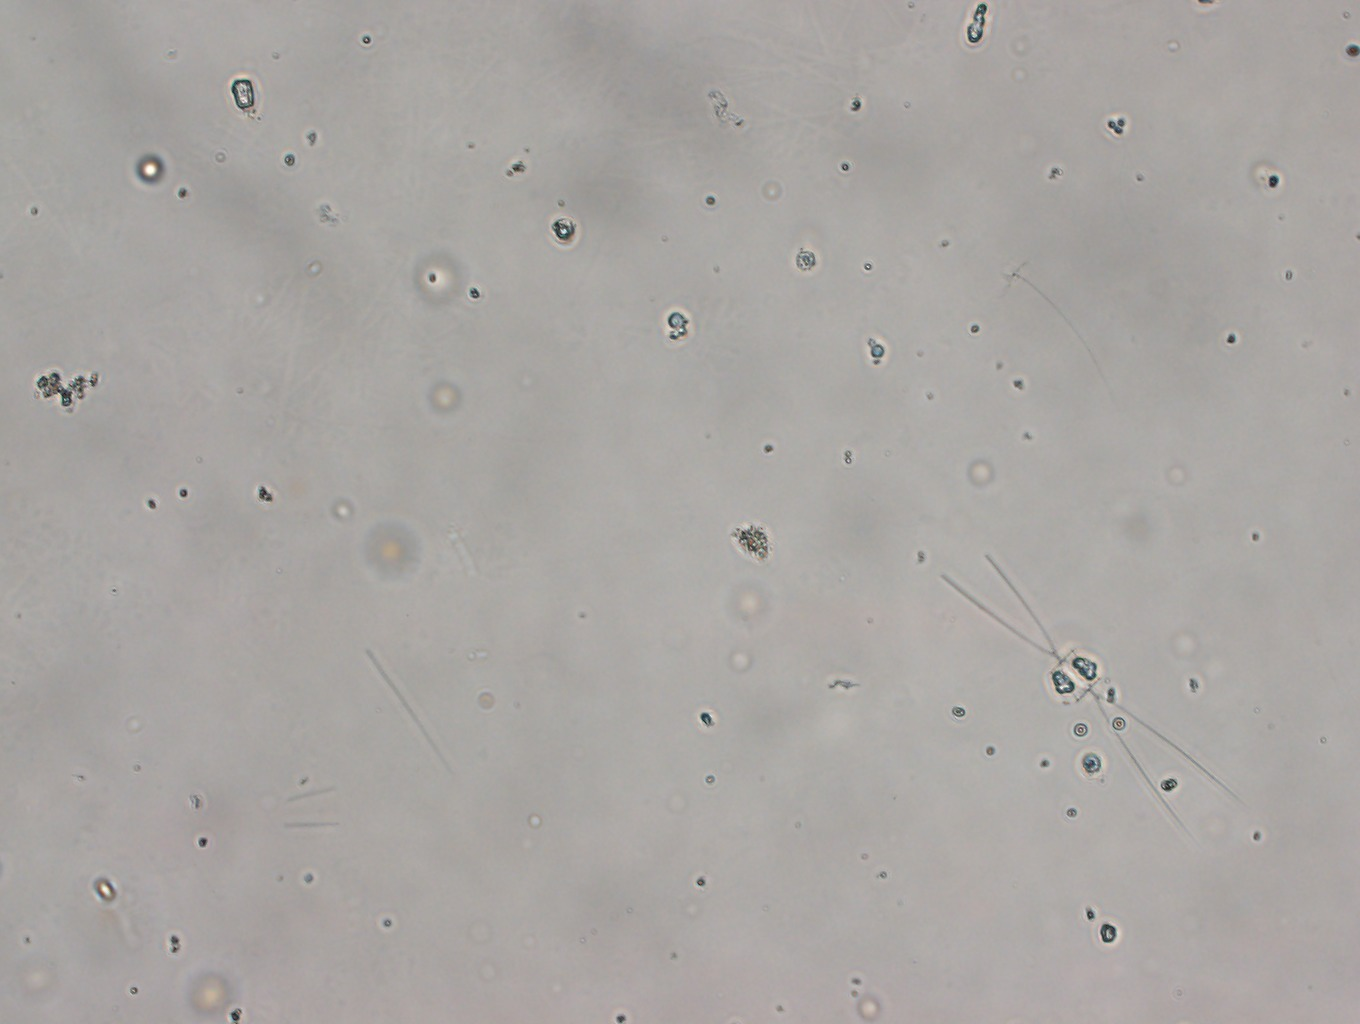chaetoceros: (939, 553, 1250, 837)
